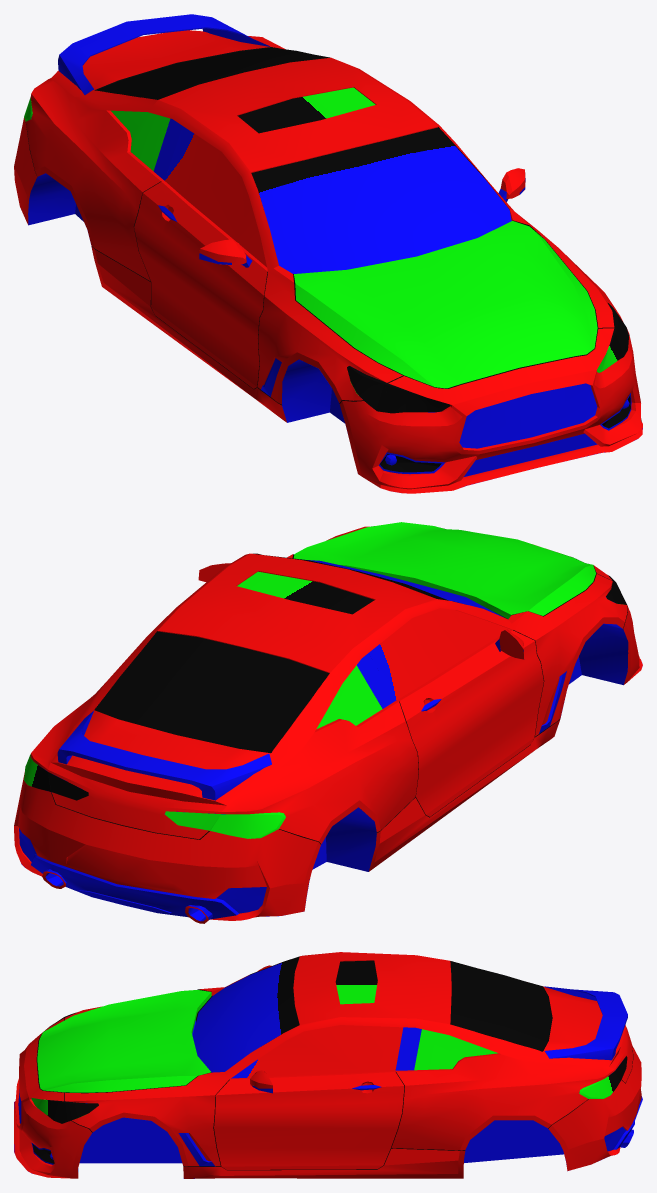
The model's file is coupe-sport-lod1.glb.
The picture shows the model from 3 angles, top to bottom: view 1: azimuth 30°, elevation 25°; view 2: azimuth 150°, elevation 25°; view 3: azimuth 270°, elevation 25°; orthographic projection. The views are drawn at different scales.
Visible parts, largest first — view 1: body; view 2: body; view 3: body.
Part boxes in pixels (x1,y1,x2,y2): body: [14, 14, 642, 493]; body: [14, 522, 642, 923]; body: [14, 952, 642, 1178].
Bounding box in the file's own units: 2.04 × 1.19 × 4.53.
Materials: 3 (3 with a texture image).
